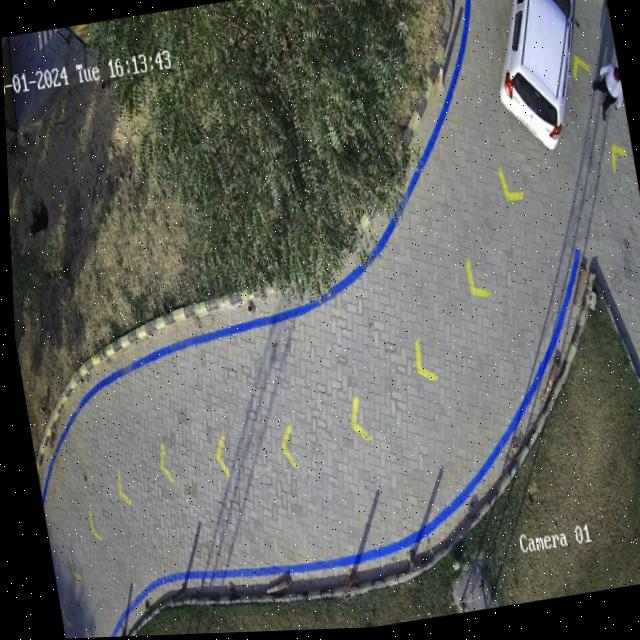car: (498, 0, 573, 155)
